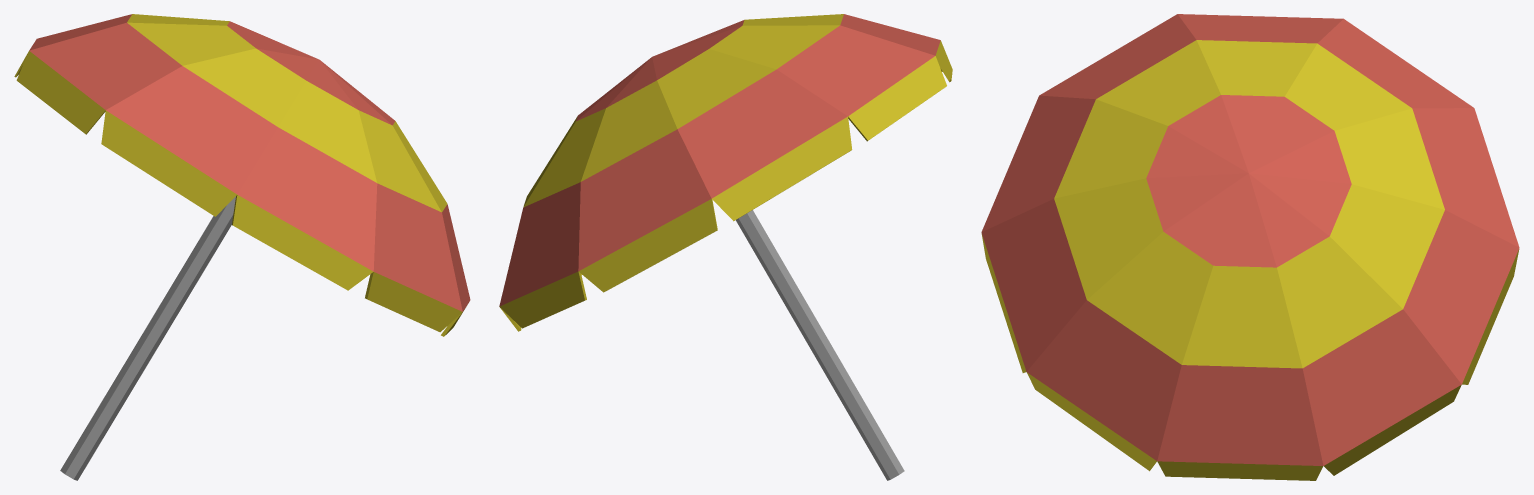
The model's file is Sombrilla3.fbx.
The picture shows the model from 3 angles, left to right: view 1: azimuth 30°, elevation 25°; view 2: azimuth 150°, elevation 25°; view 3: azimuth 270°, elevation 25°; orthographic projection.
Parts seen in each view (by area): view 1: UMBRELLA8; view 2: UMBRELLA8; view 3: UMBRELLA8.
Boxes of the visible parts, bbox=[...] form: UMBRELLA8: bbox=[14, 14, 470, 480]; UMBRELLA8: bbox=[499, 14, 952, 480]; UMBRELLA8: bbox=[981, 14, 1519, 480].
Bounding box in the file's own units: 1.38 × 1.46 × 1.7.
